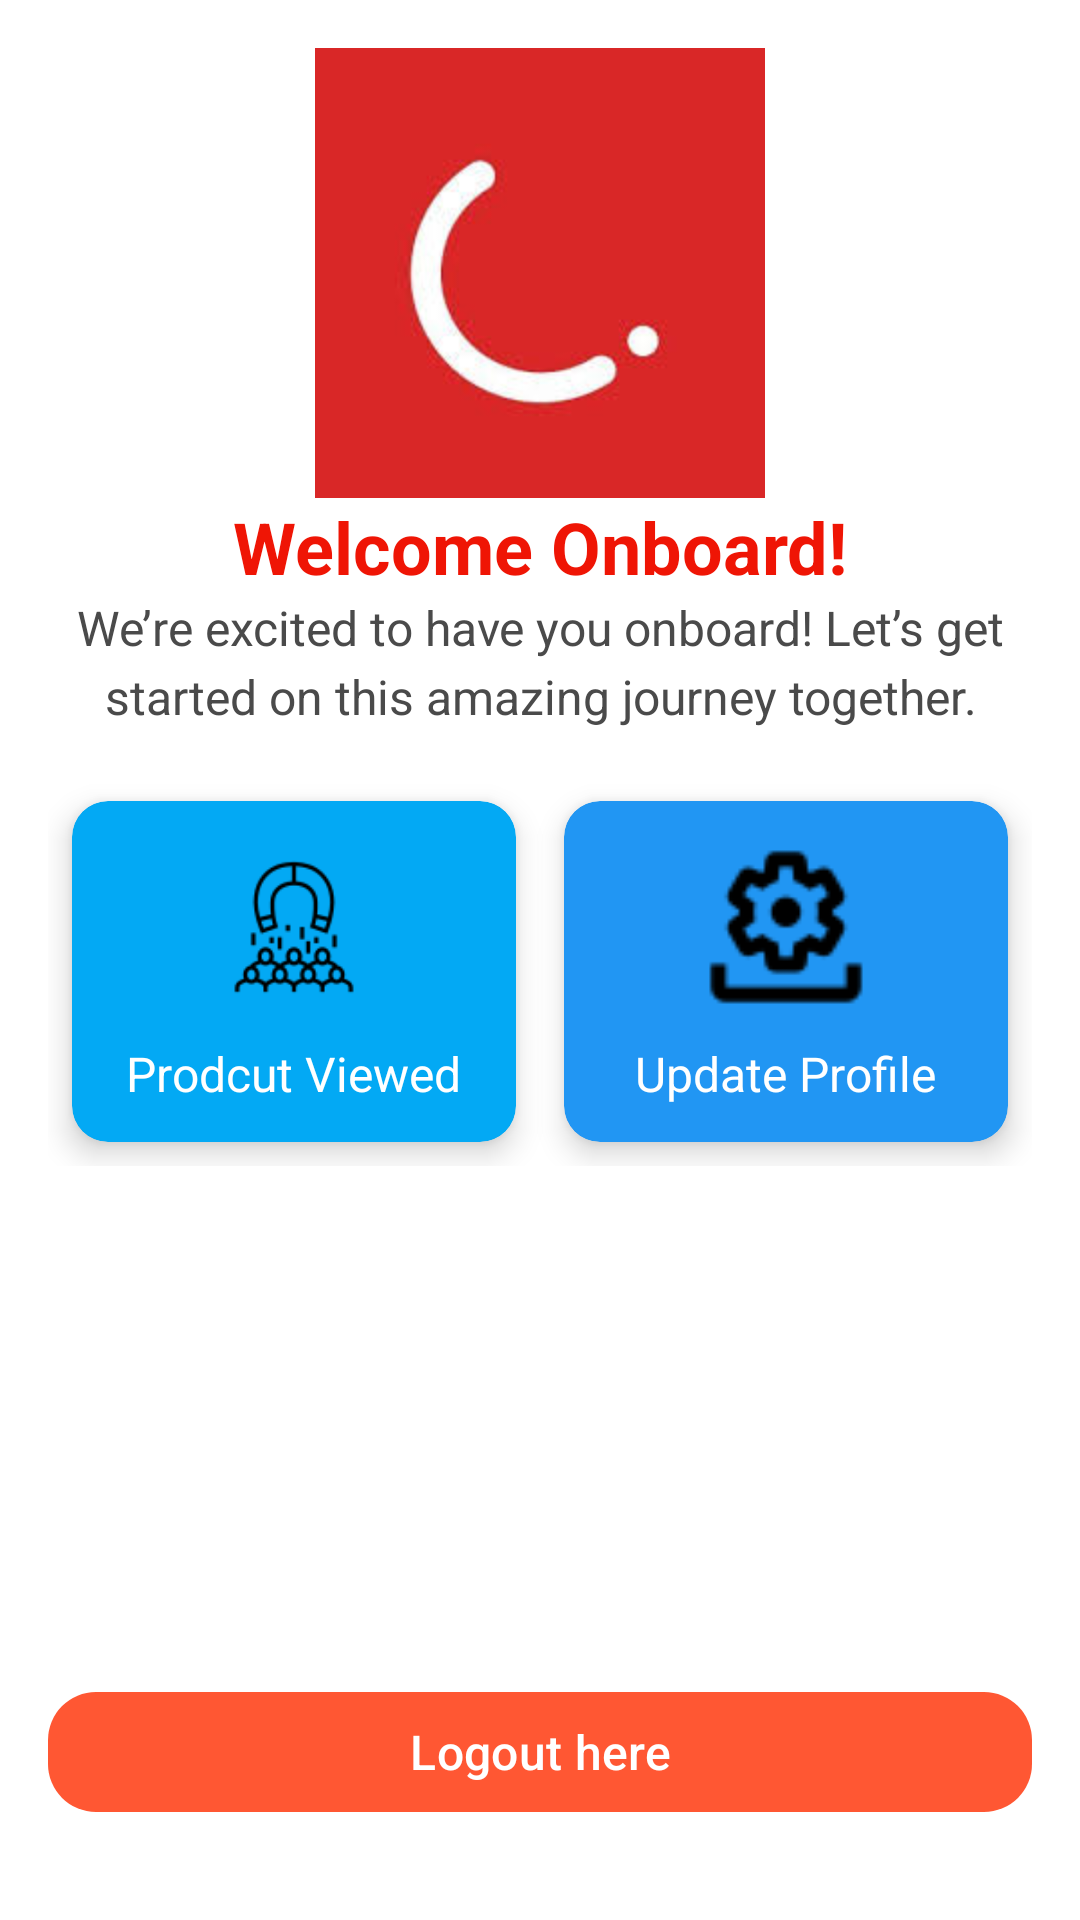

Point at icon controls on the screen. Image size 1080 × 1920, points as point (x, y).
customer engagement: point (294, 927)
